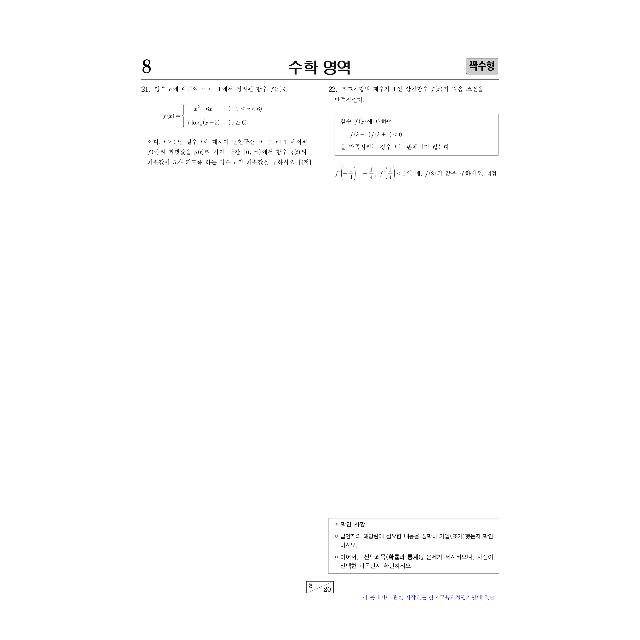short: (324, 81, 508, 185), (137, 82, 317, 174)
